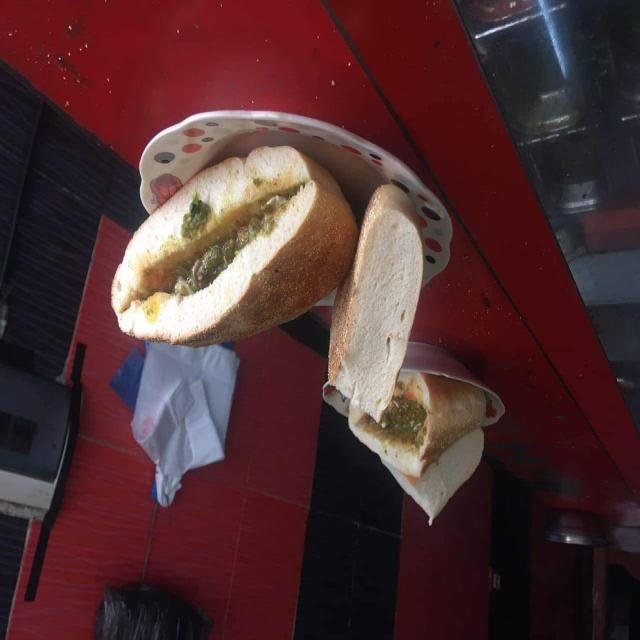Sandwitch tounsi: (103, 162, 335, 351), (347, 364, 518, 481)
